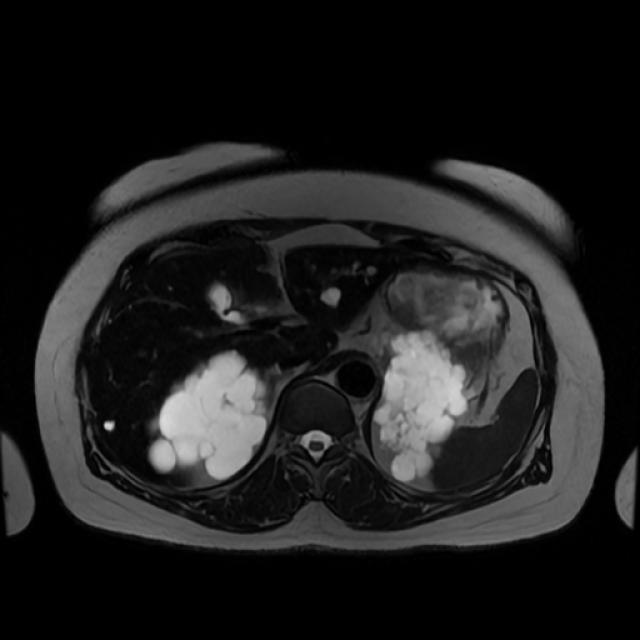sag: (149, 353, 267, 477)
sol: (378, 329, 465, 478)
